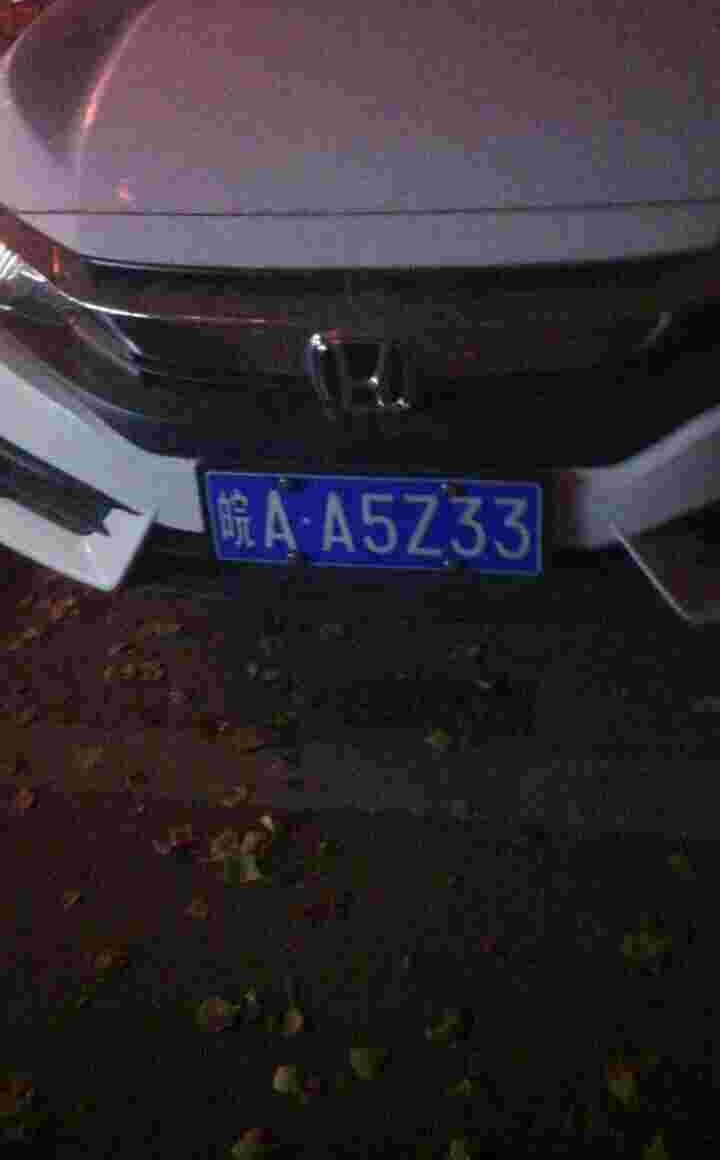car: (198, 457, 569, 576)
